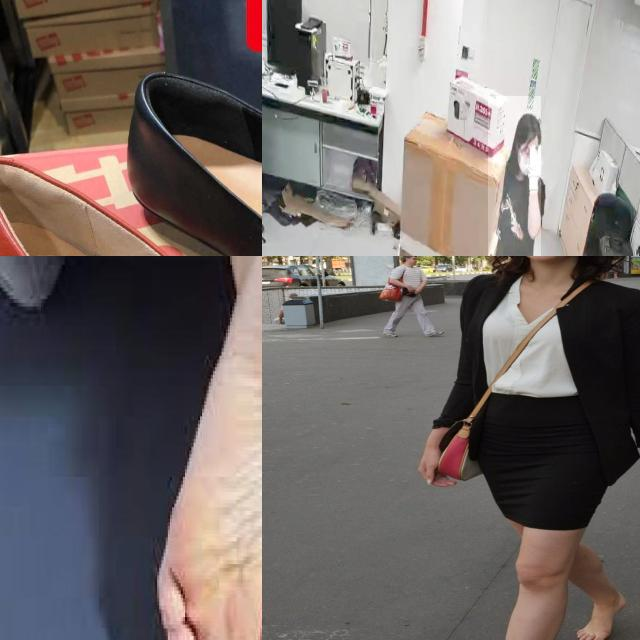Barefoots: (117, 256, 262, 640), (576, 592, 626, 640)
Sandals: (105, 42, 262, 256), (0, 140, 262, 256)
hand_glove: (527, 132, 543, 194)
head_nohelmet: (516, 112, 542, 136)
person: (488, 96, 541, 256)
